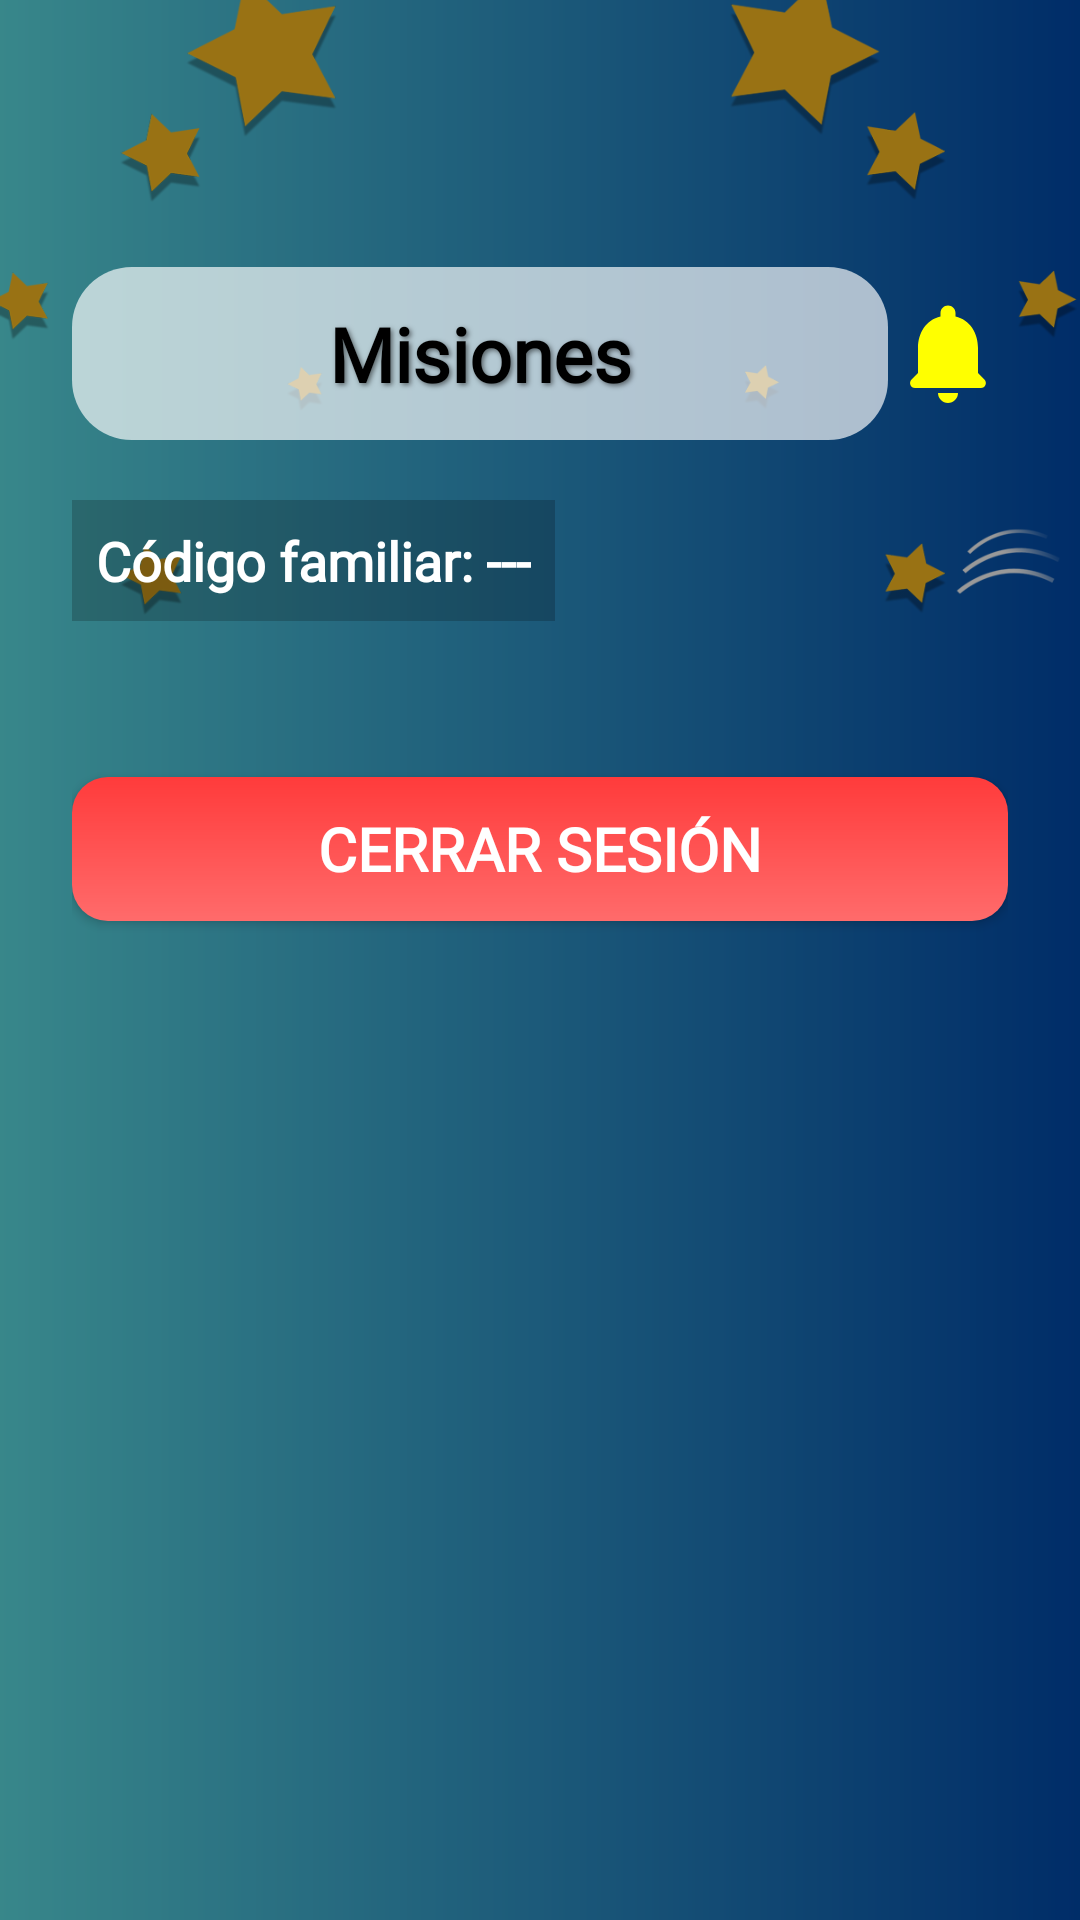

Named icons in this screenshot (1080×1920) and their centers, point (x, y):
Notificación: point (948, 354)
